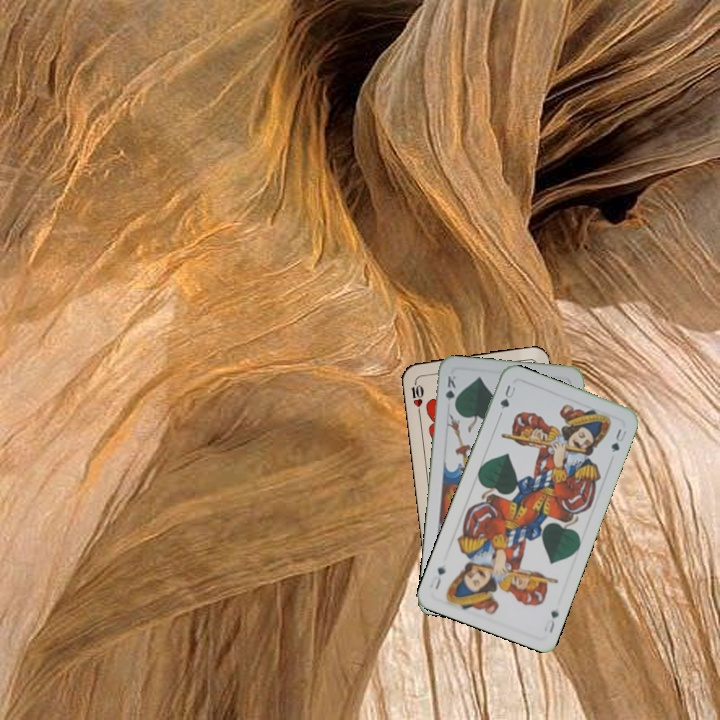GK: (441, 372, 458, 411)
GU: (496, 381, 518, 412), (540, 606, 561, 635)
H10: (407, 375, 426, 416)
